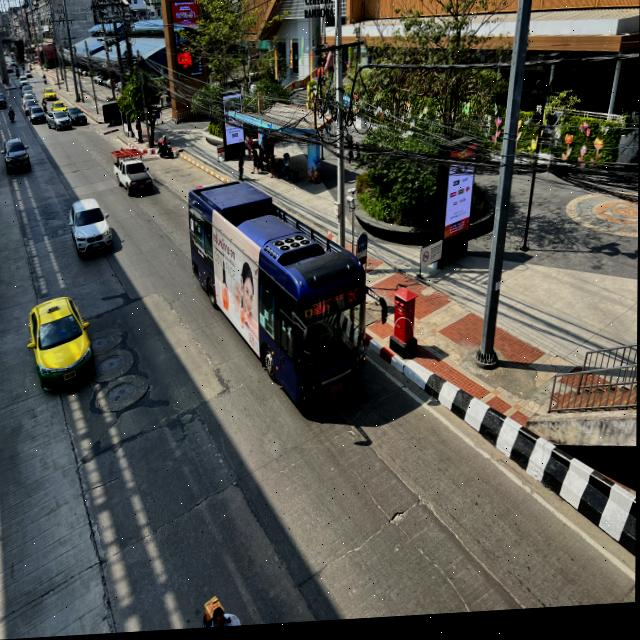Bus-Line-Number: (348, 292, 359, 308)
Destination-Sign-Normal: (312, 296, 346, 323)
TSB-Bus: (184, 179, 371, 423)
